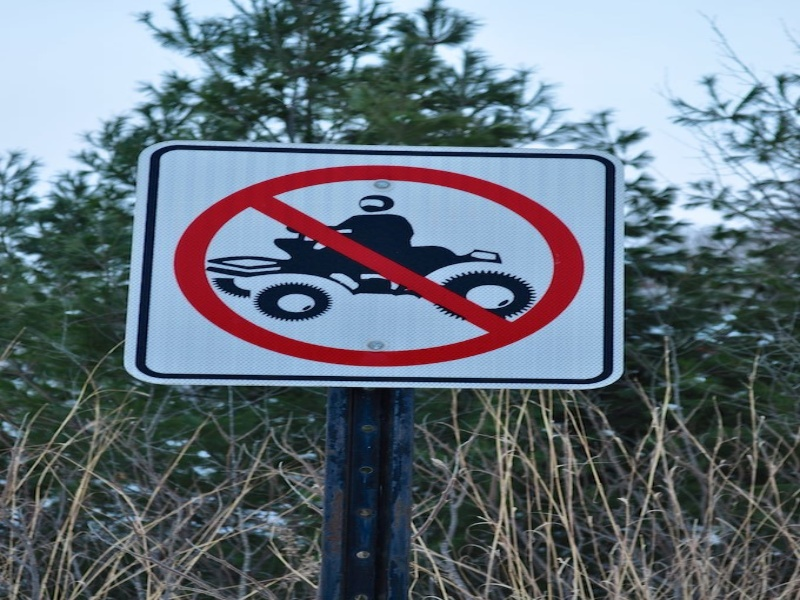no_parking: (140, 144, 615, 402)
